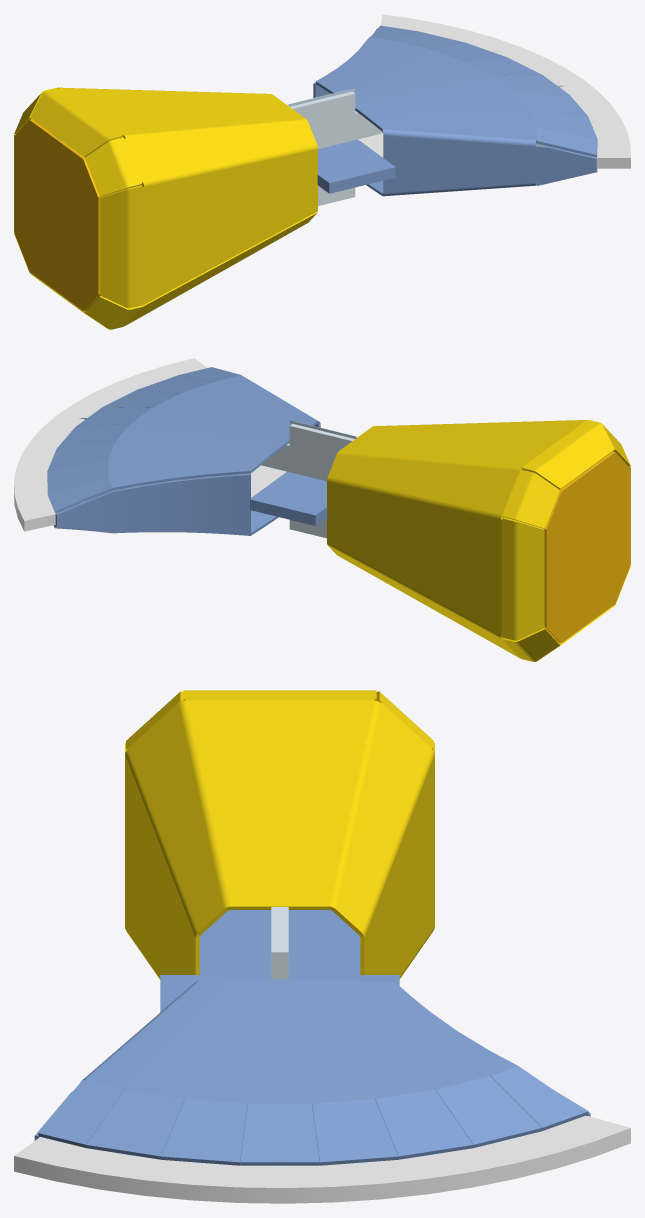
3 renders of one model, top to bottom at view 1: azimuth 30°, elevation 25°; view 2: azimuth 150°, elevation 25°; view 3: azimuth 270°, elevation 25°, orthographic. The views are drawn at different scales.
Visible parts, largest first — view 1: Part 6, Part 20, Part 5, Part 1, Part 19, Part 2, Part 3; view 2: Part 6, Part 20, Part 5, Part 21, Part 1, Part 2, Part 3, Part 19; view 3: Part 6, Part 20, Part 1, Part 3, Part 2.
Boxes of the visible parts, bbox=[...] form: Part 6: bbox=[14, 87, 317, 329]; Part 20: bbox=[316, 25, 597, 164]; Part 5: bbox=[14, 119, 100, 310]; Part 1: bbox=[358, 14, 630, 168]; Part 19: bbox=[366, 164, 597, 196]; Part 2: bbox=[287, 89, 382, 205]; Part 3: bbox=[317, 139, 395, 193]; Part 6: bbox=[327, 420, 630, 661]; Part 20: bbox=[47, 367, 320, 513]; Part 5: bbox=[544, 451, 630, 643]; Part 21: bbox=[55, 473, 250, 534]; Part 1: bbox=[14, 358, 286, 531]; Part 2: bbox=[261, 422, 357, 538]; Part 3: bbox=[250, 471, 327, 525]; Part 19: bbox=[54, 510, 278, 535]; Part 6: bbox=[125, 690, 434, 979]; Part 20: bbox=[34, 979, 588, 1165]; Part 1: bbox=[14, 1115, 630, 1203]; Part 3: bbox=[160, 910, 399, 1012]; Part 2: bbox=[271, 907, 288, 1166].
Bounding box in the file's own units: 0.3318 × 0.1144 × 0.2276.
